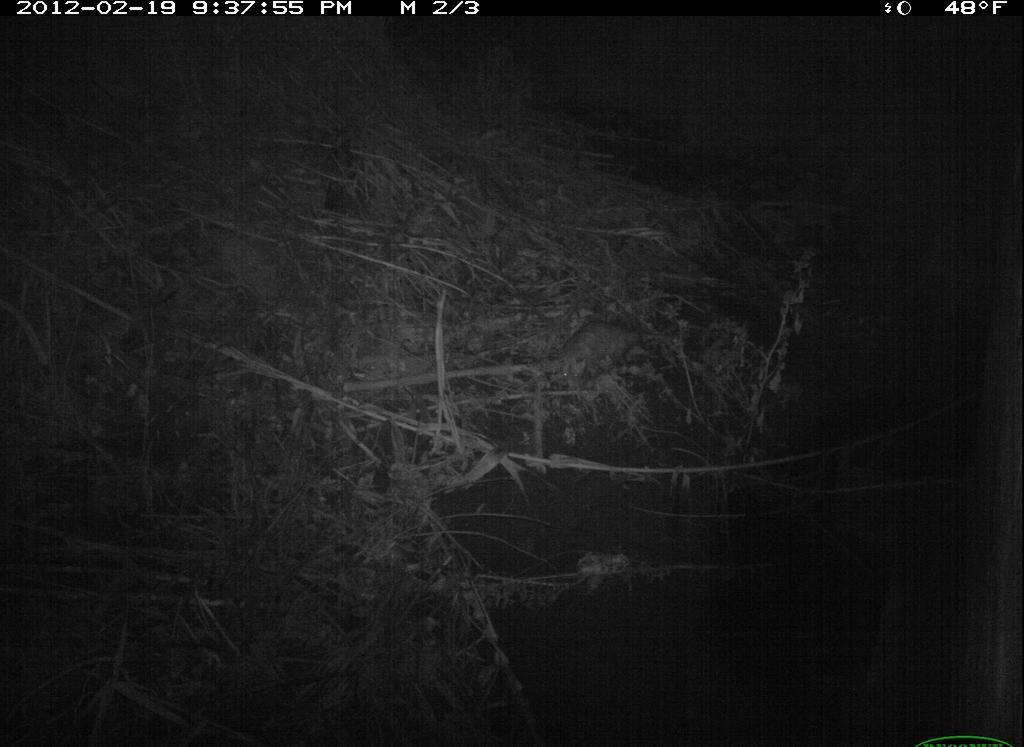opossum: (543, 312, 680, 406)
